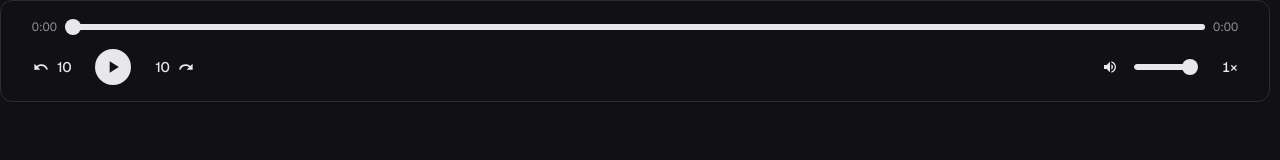
Test case: AudioPlayer › cycling speed button advances through speed values
The width and height of the screenshot is (1280, 160).
Click the button "1×": {"x": 1229, "y": 67} [1206,49,1253,85]
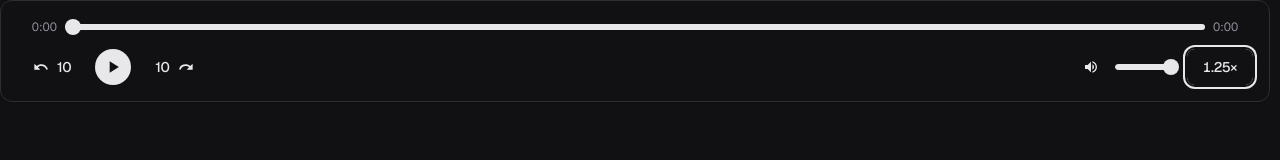
expect the button "1.25×" is shown: met
Click the button "1.25×": {"x": 1220, "y": 67} [1187,49,1253,85]
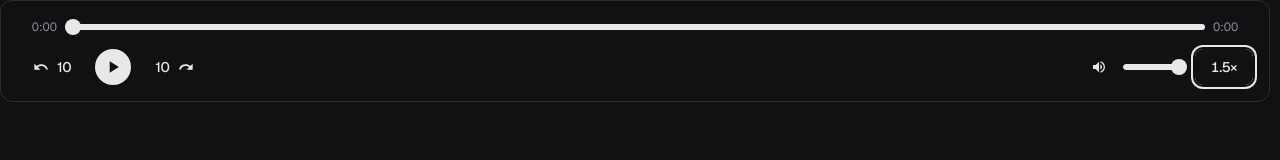
expect the button "1.5×" is shown: met, box [1195,49,1253,85]
